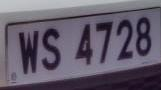2: (115, 14, 136, 67)
4: (72, 18, 95, 74)
7: (92, 17, 114, 72)
8: (133, 11, 154, 59)
S: (39, 22, 64, 78)
W: (16, 23, 41, 82)
